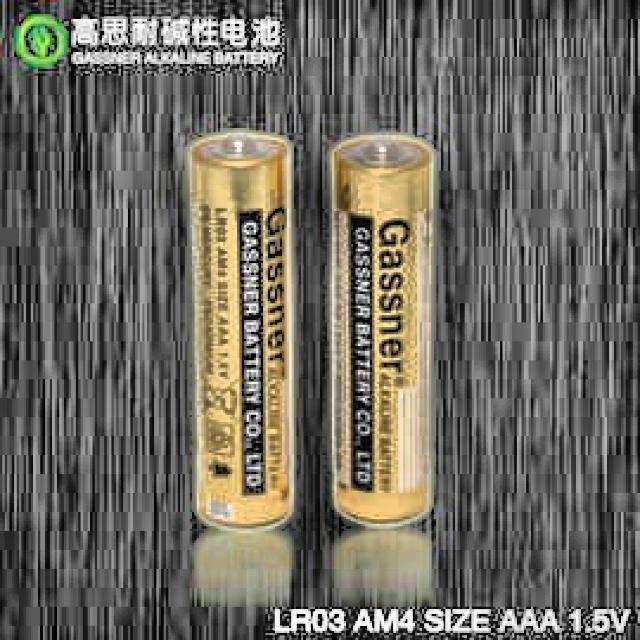Non-Valuable Waste - Batteries: (187, 131, 294, 528), (330, 134, 434, 524)
